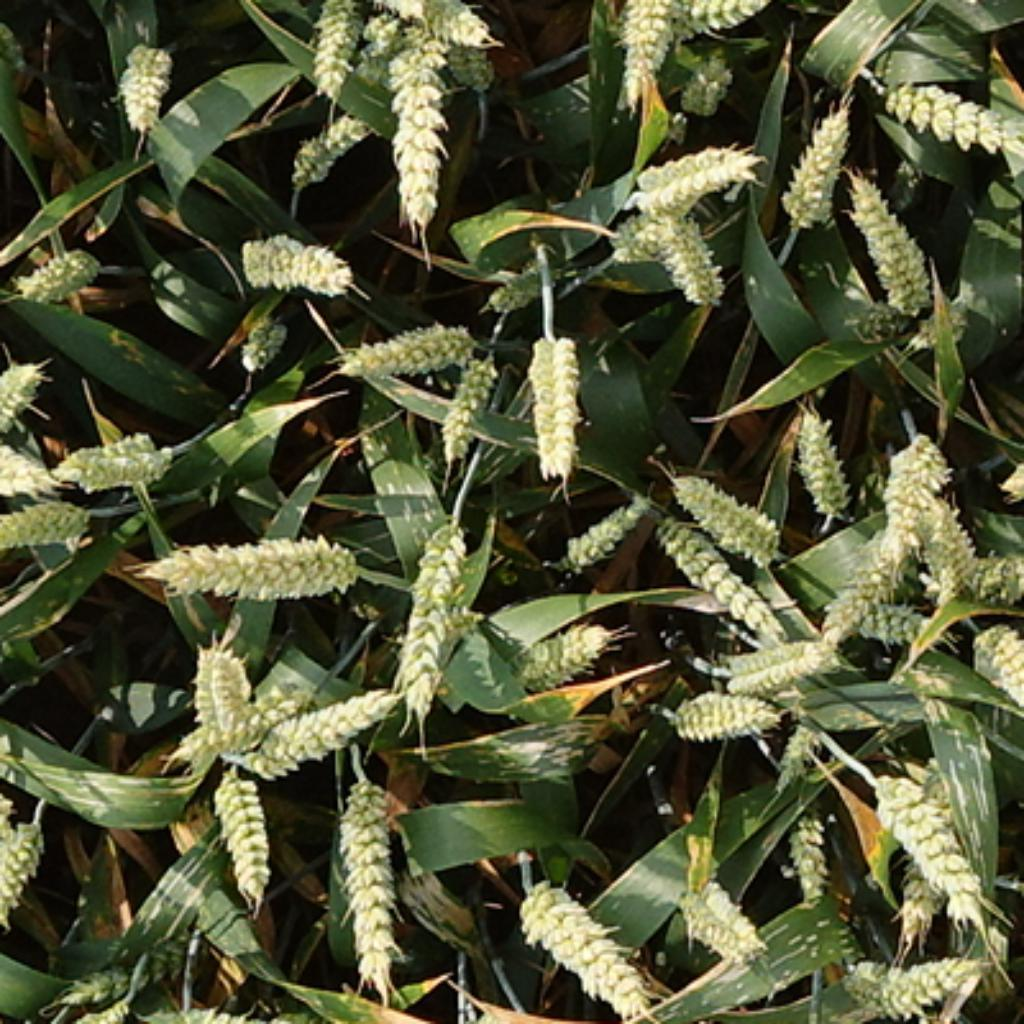0-0: (512, 860, 657, 1013), (865, 765, 990, 934), (135, 522, 366, 604), (645, 506, 783, 640), (883, 750, 966, 953), (238, 678, 401, 778), (391, 519, 471, 719), (378, 33, 458, 230), (335, 768, 401, 1003), (842, 163, 942, 307), (880, 76, 1024, 171), (833, 945, 999, 1022), (870, 424, 960, 565), (819, 529, 926, 640), (668, 471, 785, 563), (171, 686, 312, 762), (181, 634, 266, 760), (335, 309, 481, 381), (773, 97, 852, 225), (622, 140, 760, 212), (232, 227, 363, 302), (525, 326, 585, 482), (670, 862, 765, 960), (212, 768, 276, 913), (652, 212, 739, 314), (898, 481, 983, 583), (614, 0, 686, 120), (514, 614, 622, 691), (58, 419, 176, 488), (721, 622, 839, 688), (558, 486, 650, 570), (286, 102, 376, 186), (351, 1, 506, 49), (788, 401, 855, 512), (664, 689, 779, 748), (10, 243, 104, 312), (110, 38, 176, 135), (826, 578, 929, 640), (302, 0, 363, 104), (435, 350, 499, 448), (898, 294, 993, 360), (966, 624, 1024, 718), (486, 243, 568, 309), (53, 953, 160, 1003), (2, 808, 48, 924), (2, 494, 92, 547), (604, 209, 680, 271), (947, 535, 1024, 596), (675, 46, 739, 112), (788, 803, 829, 903), (440, 32, 504, 96), (2, 437, 66, 499), (666, 0, 779, 34), (2, 350, 46, 435), (238, 304, 294, 368), (775, 711, 821, 775)
